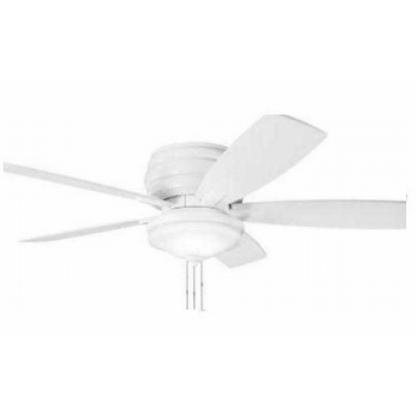ceiling-fan: (3, 115, 407, 310)
